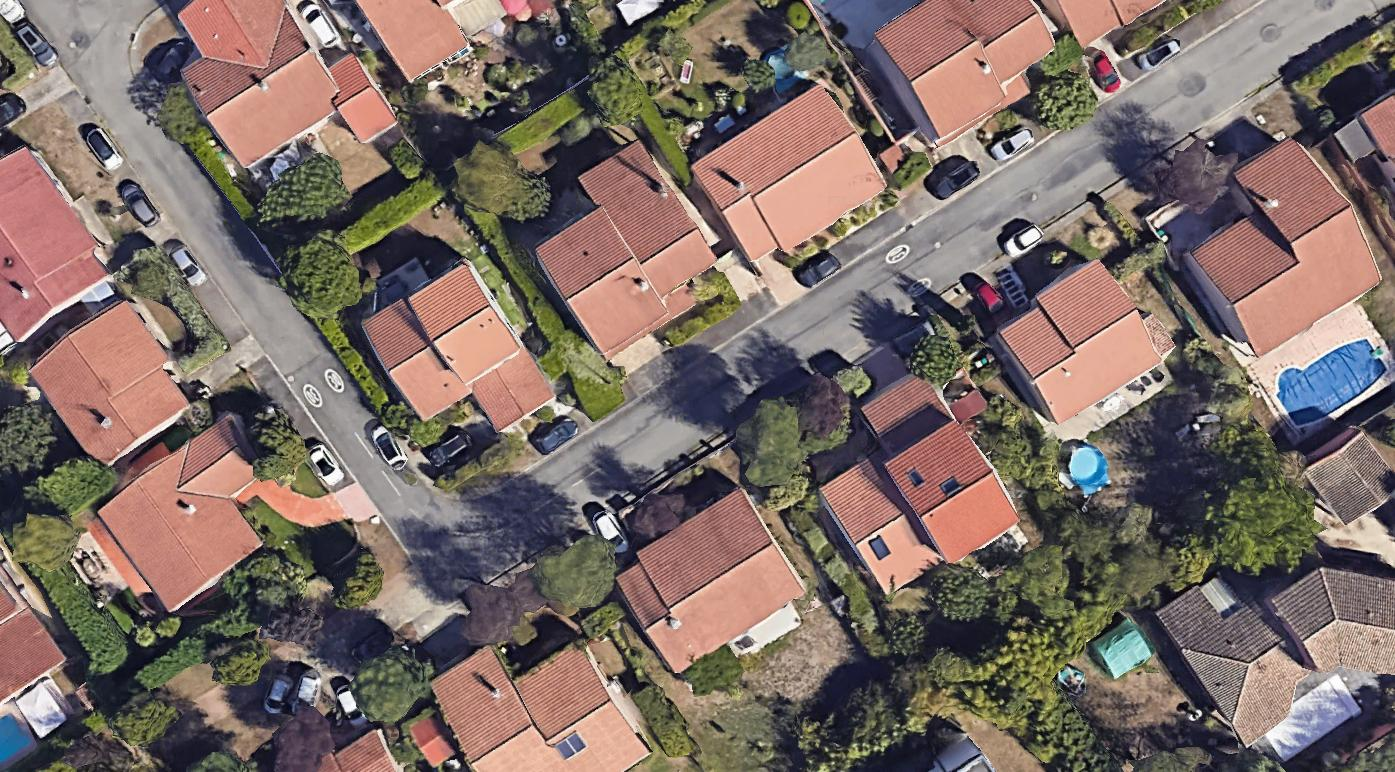maison: (1151, 510, 1395, 755), (1151, 126, 1395, 370), (786, 363, 1026, 608), (511, 133, 734, 362), (79, 409, 305, 625), (355, 255, 556, 466), (683, 76, 891, 275), (604, 486, 807, 678), (168, 0, 392, 174), (853, 0, 1076, 158), (977, 250, 1168, 434), (22, 293, 202, 474), (432, 647, 649, 771), (0, 149, 106, 340), (355, 0, 504, 81), (1295, 421, 1395, 533), (0, 572, 65, 702), (1041, 0, 1163, 45), (318, 729, 398, 771), (1360, 92, 1394, 162)
